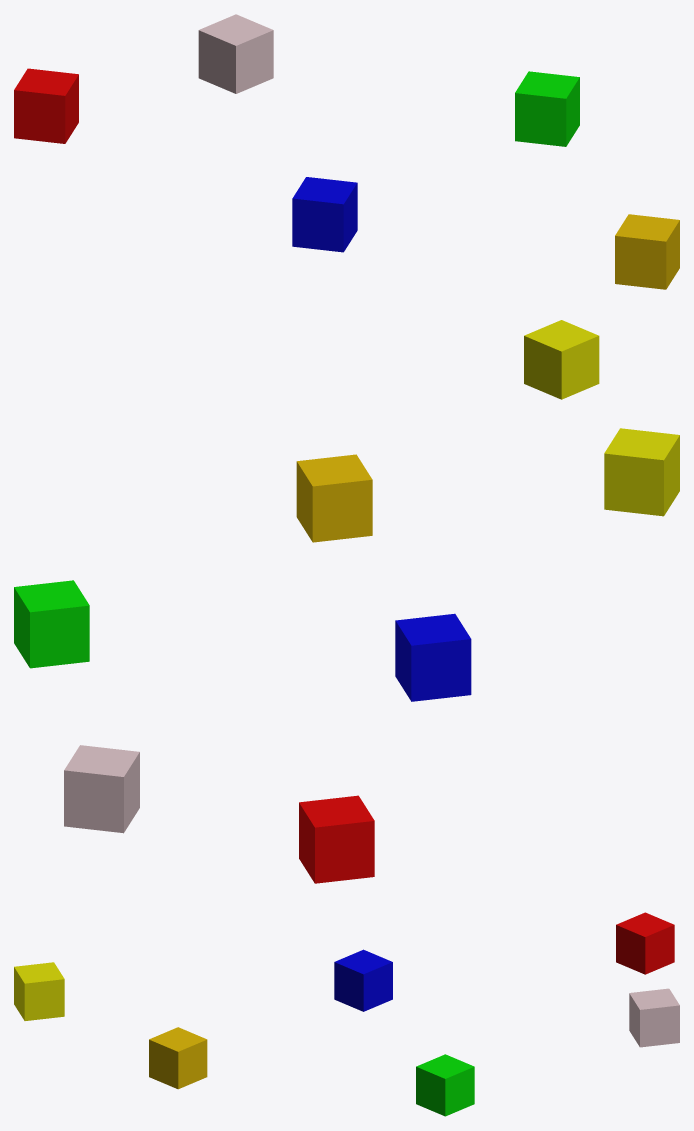
The model's file is 51_dice_digital_twin.glb.
The picture shows the model from 3 angles, top to bottom: view 1: azimuth 30°, elevation 25°; view 2: azimuth 150°, elevation 25°; view 3: azimuth 270°, elevation 25°; orthographic projection. The views are drawn at different scales.
Visible parts, largest first — view 1: Pink_Dice_0, Yellow_Dice_0, Blue_Dice_0, Green_Dice_0, Orange_Dice_0, Red_Dice_0; view 2: Orange_Dice_0, Blue_Dice_0, Pink_Dice_0, Green_Dice_0, Yellow_Dice_0, Red_Dice_0; view 3: Green_Dice_0, Orange_Dice_0, Red_Dice_0, Blue_Dice_0, Yellow_Dice_0, Pink_Dice_0.
Part boxes in pixels (x1,y1,x2,y2): Pink_Dice_0: (198, 14, 273, 93); Yellow_Dice_0: (524, 320, 599, 399); Blue_Dice_0: (292, 177, 357, 252); Green_Dice_0: (515, 71, 579, 146); Orange_Dice_0: (615, 214, 679, 289); Red_Dice_0: (14, 68, 78, 143); Orange_Dice_0: (296, 454, 372, 542); Blue_Dice_0: (395, 613, 471, 701); Pink_Dice_0: (64, 745, 139, 833); Green_Dice_0: (14, 580, 89, 668); Yellow_Dice_0: (604, 428, 679, 516); Red_Dice_0: (299, 795, 374, 883); Green_Dice_0: (416, 1054, 474, 1116); Orange_Dice_0: (149, 1027, 207, 1089); Red_Dice_0: (616, 912, 674, 974); Blue_Dice_0: (334, 949, 392, 1011); Yellow_Dice_0: (14, 962, 64, 1020); Pink_Dice_0: (629, 988, 679, 1047).
Size of the model in its own units: 38.06 by 4 by 64.3.
